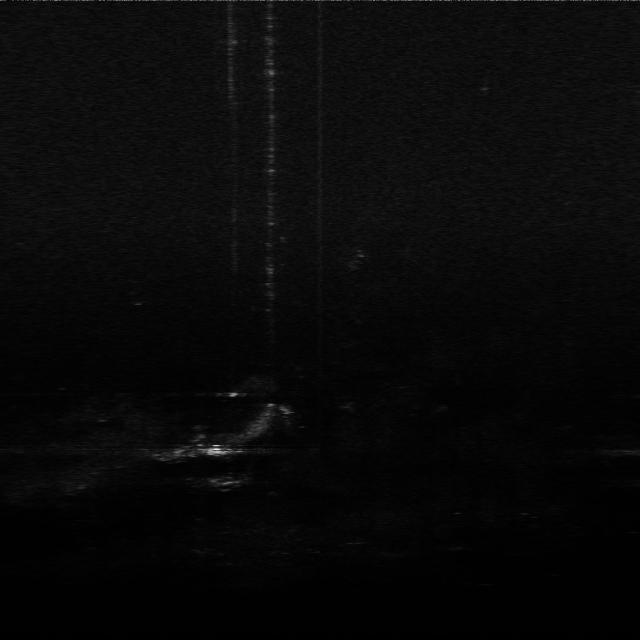rov: (200, 441, 230, 458)
